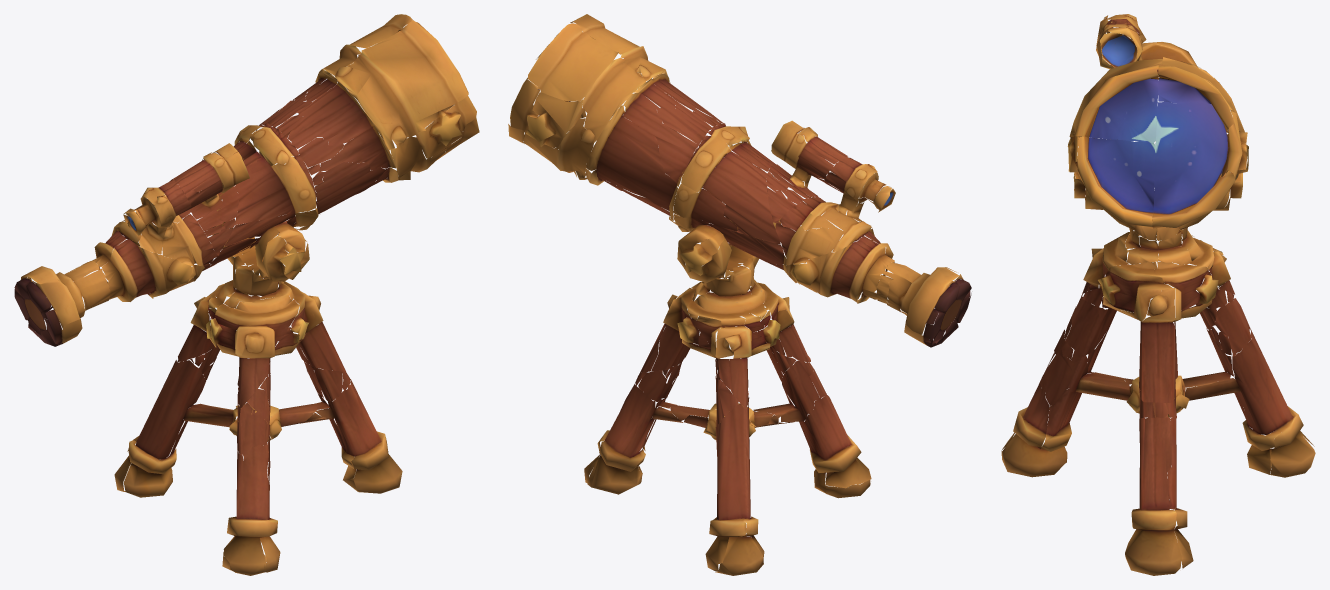
Rendered from prop_telescope.glb.
3 views of the same model, side by side, from view 1: azimuth 30°, elevation 25°; view 2: azimuth 150°, elevation 25°; view 3: azimuth 270°, elevation 25° (orthographic). The views are drawn at different scales.
Parts seen in each view (by area): view 1: Prop; view 2: Prop; view 3: Prop.
Part boxes in pixels (bbox=[...]): Prop: bbox=[14, 14, 479, 575]; Prop: bbox=[508, 14, 971, 575]; Prop: bbox=[1001, 14, 1315, 575].
Bounding box in the file's own units: 0.9983 × 1 × 0.5463.
Materials: 1 (1 with a texture image).
